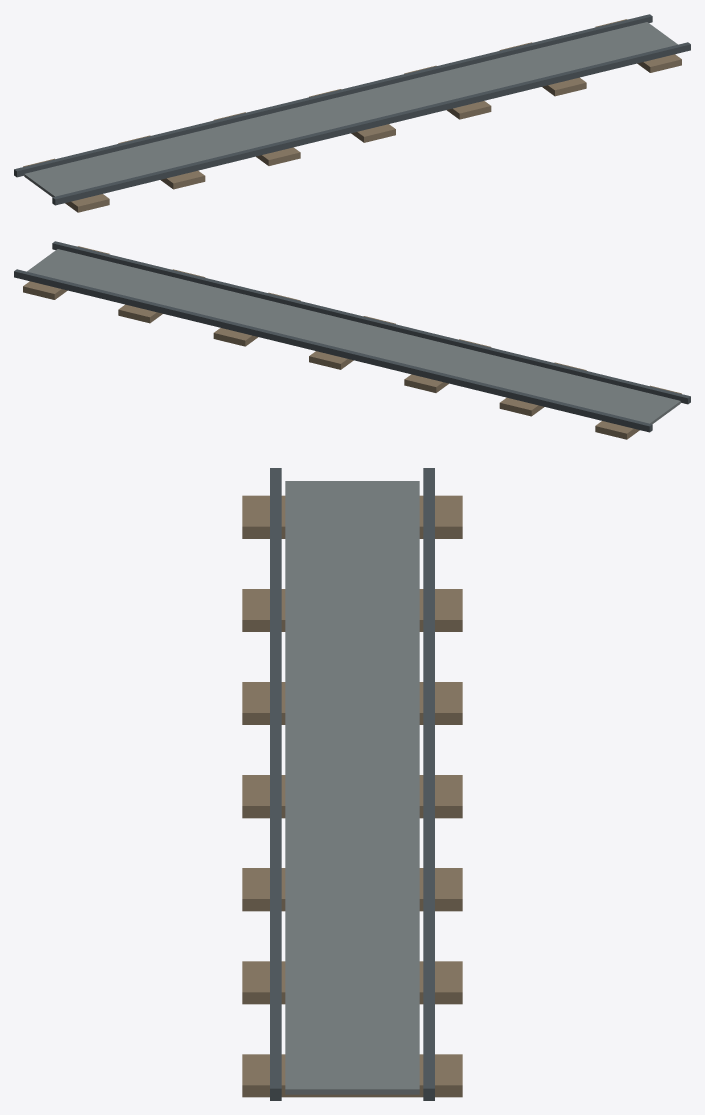
Rendered from turntable_deck.glb.
3 views of the same model, one above another, from view 1: azimuth 30°, elevation 25°; view 2: azimuth 150°, elevation 25°; view 3: azimuth 270°, elevation 25° (orthographic). The views are drawn at different scales.
Parts seen in each view (by area): view 1: turntable_deck; view 2: turntable_deck; view 3: turntable_deck.
Boxes of the visible parts, box(x1,y1,x2,y2) form: turntable_deck: box(14, 14, 690, 212); turntable_deck: box(14, 241, 690, 439); turntable_deck: box(242, 468, 462, 1100).
Bounding box in the file's own units: 19.2 × 0.35 × 2.88.
